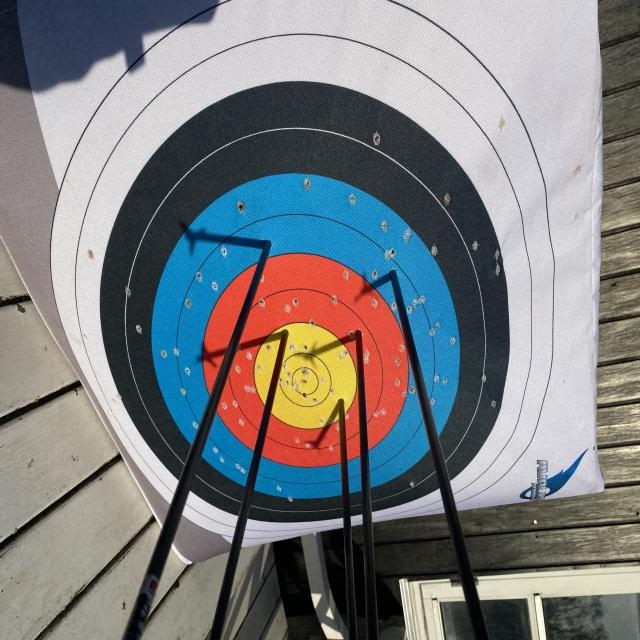Arrow_Blue: (244, 220, 286, 272), (376, 248, 410, 298)
Arrow_Red: (339, 309, 384, 358)
Arrow_Yellow: (274, 306, 302, 364), (316, 378, 355, 419)
